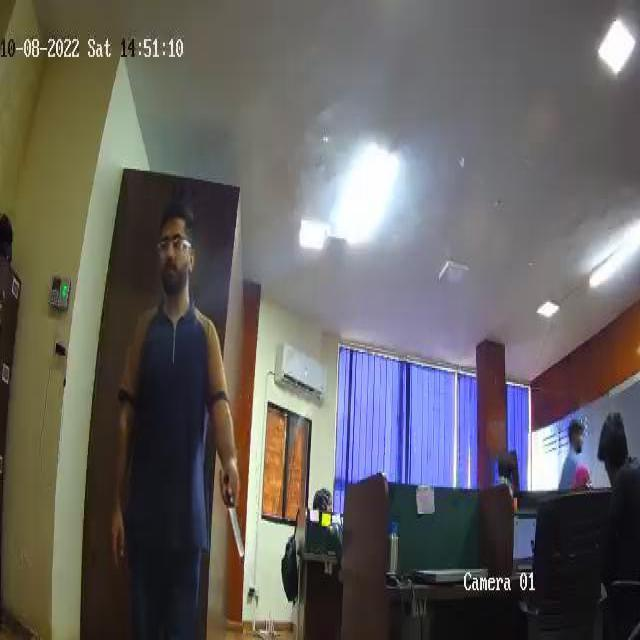faca: (219, 468, 248, 566)
